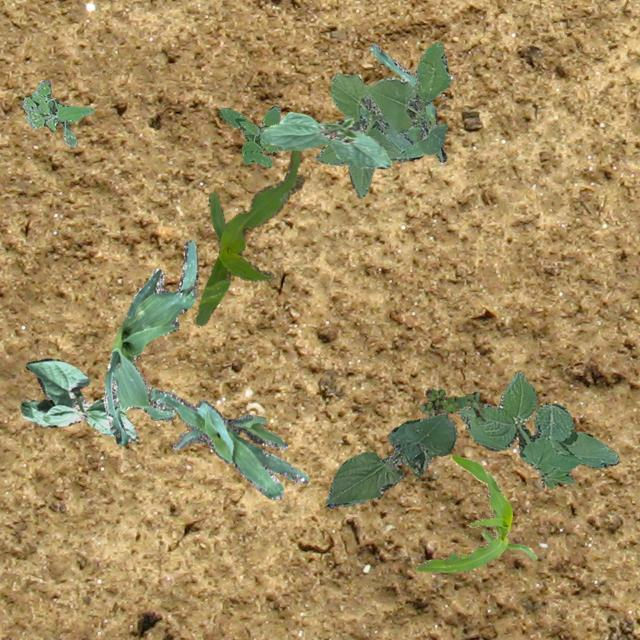crop: (102, 240, 198, 444), (194, 148, 304, 324), (148, 386, 308, 498), (410, 454, 536, 572), (324, 413, 456, 508), (19, 358, 138, 442), (368, 42, 446, 160), (258, 110, 391, 168), (115, 399, 128, 412)
weed: (314, 42, 450, 196), (457, 370, 618, 488), (19, 78, 92, 146), (218, 104, 292, 166), (418, 388, 486, 420)
